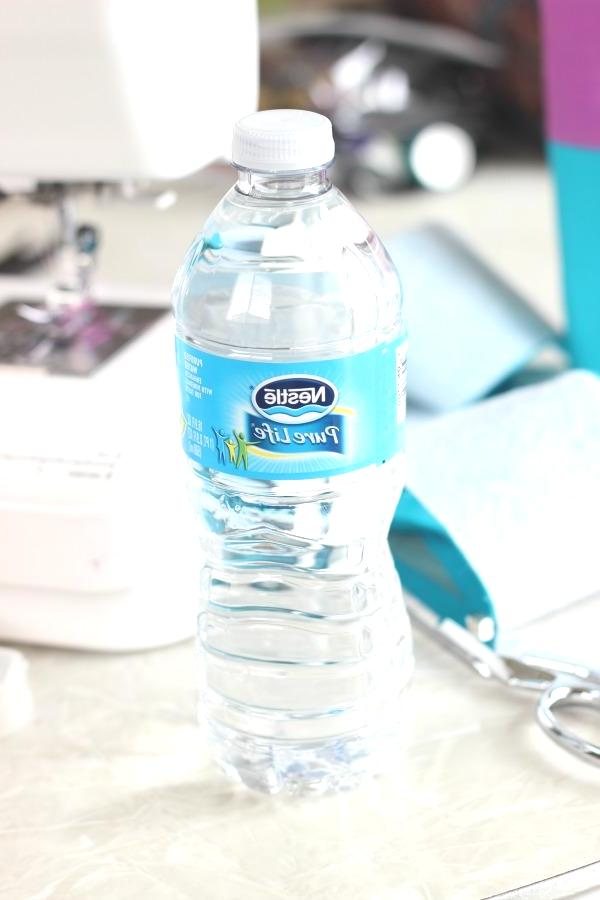bottle: (164, 95, 426, 818)
